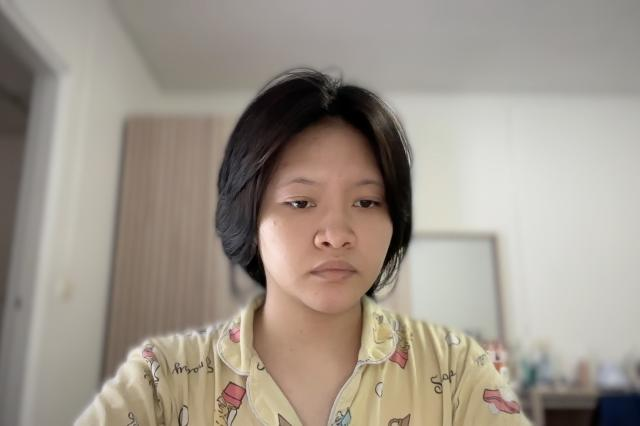fokus: (232, 79, 412, 313)
